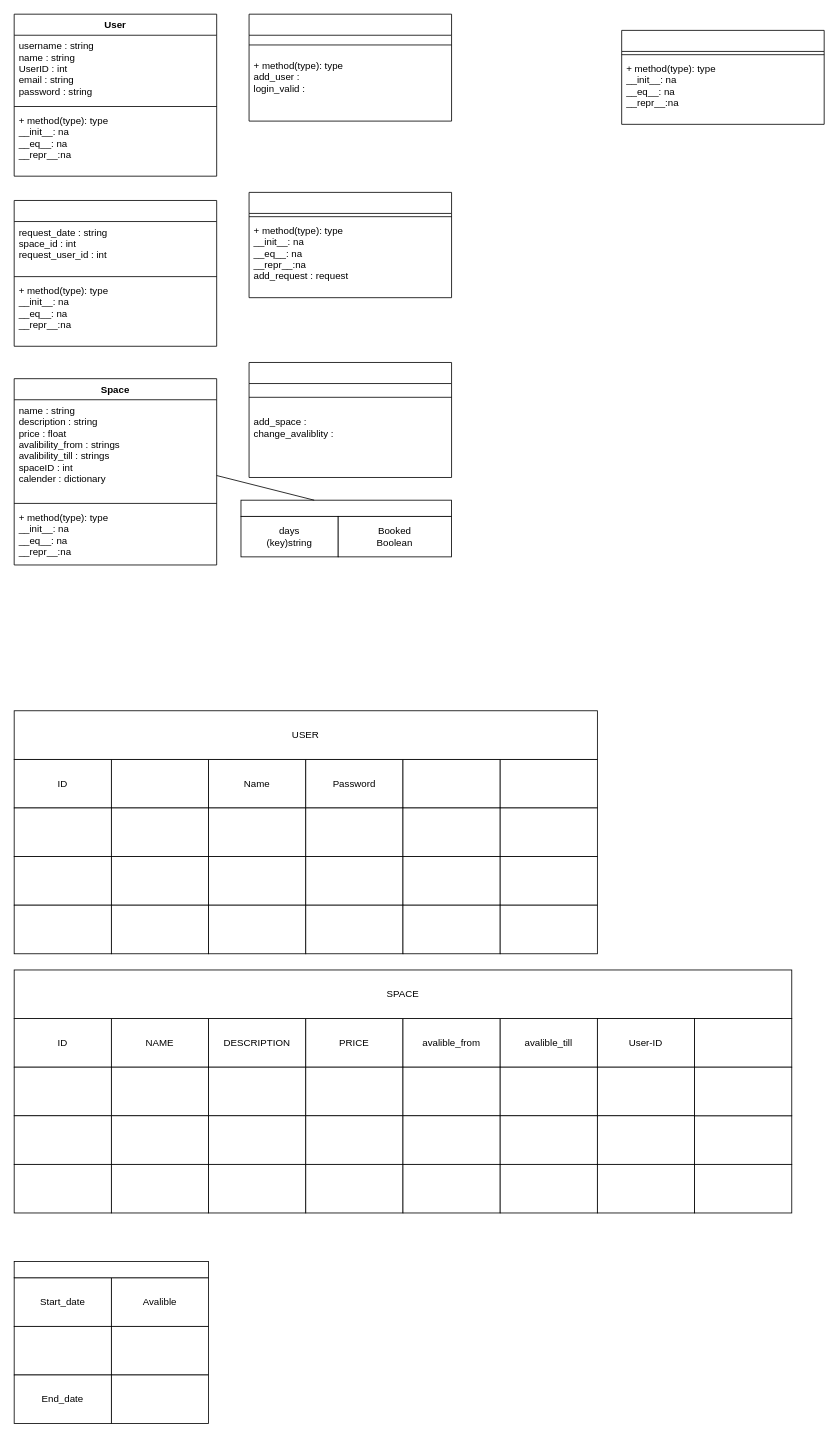
Image size: 838x1438. Some labels were removed from this diagram. The box of each missing label's shape, as (x1, y1, x2, y2) in pixels:
< - inbetween dates - >: (13, 1326, 111, 1375)
App.py: (621, 30, 824, 124)
Calendar Dictionary: (240, 499, 452, 516)
Calender: (13, 1261, 209, 1278)
Requests: (13, 200, 217, 346)
Requests_repository: (248, 192, 452, 298)
Space_repository: (248, 362, 452, 477)
User_repository: (248, 13, 452, 121)
Username: (111, 759, 209, 808)
